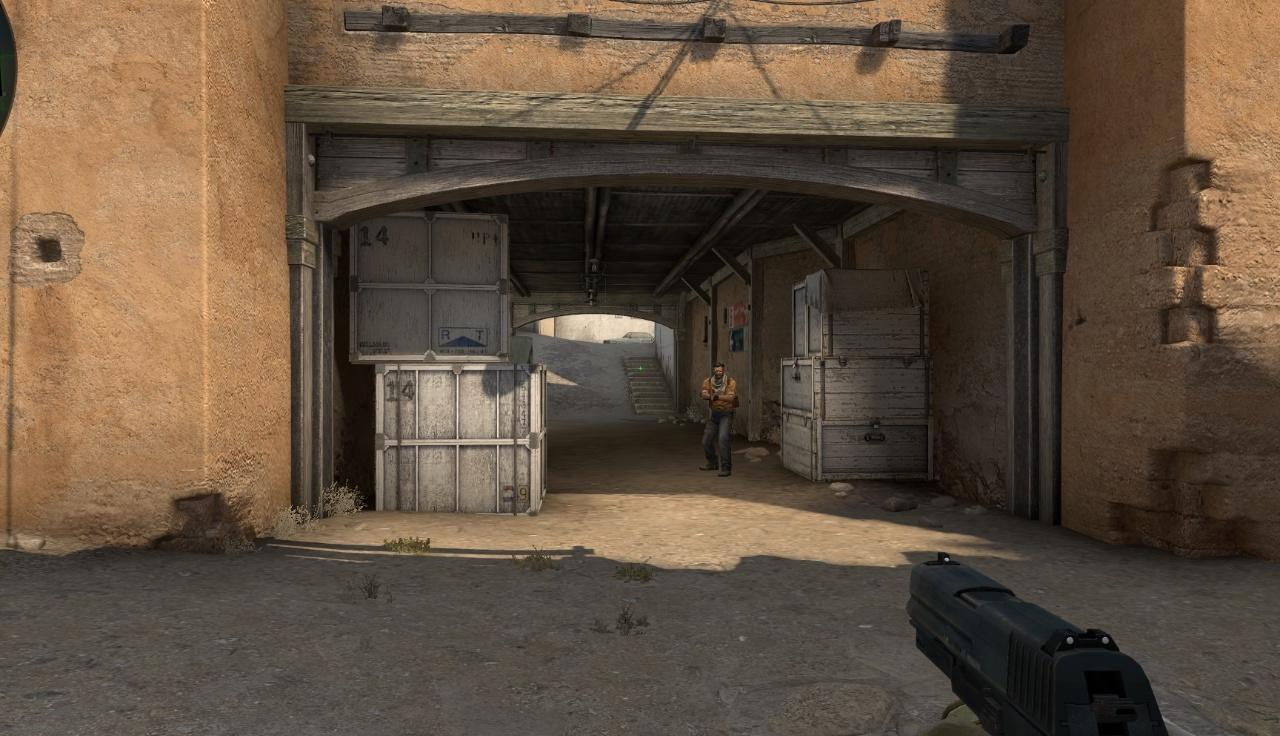pistol: (908, 555, 1167, 736)
tt: (702, 363, 736, 477)
tthead: (712, 363, 724, 380)
